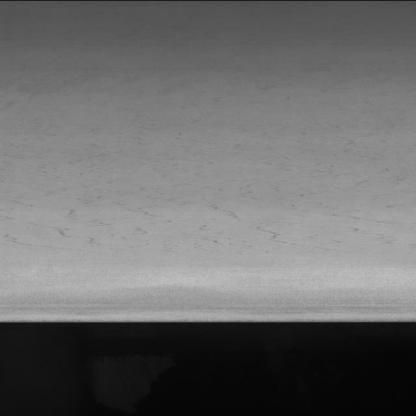silk_spot: (5, 166, 290, 256)
